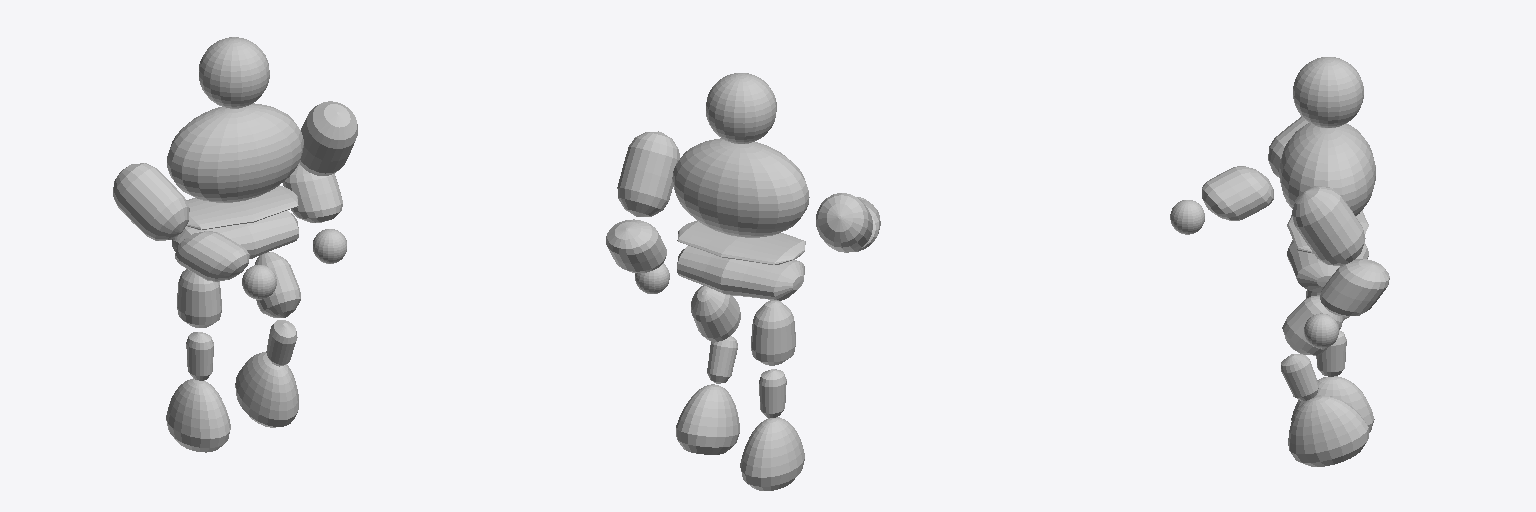
The model's file is PTwoPunch1.obj.
3 renders of one model, left to right at view 1: azimuth 30°, elevation 25°; view 2: azimuth 150°, elevation 25°; view 3: azimuth 270°, elevation 25°, orthographic.
Bounding box in the file's own units: 4.08 × 6.49 × 3.28.